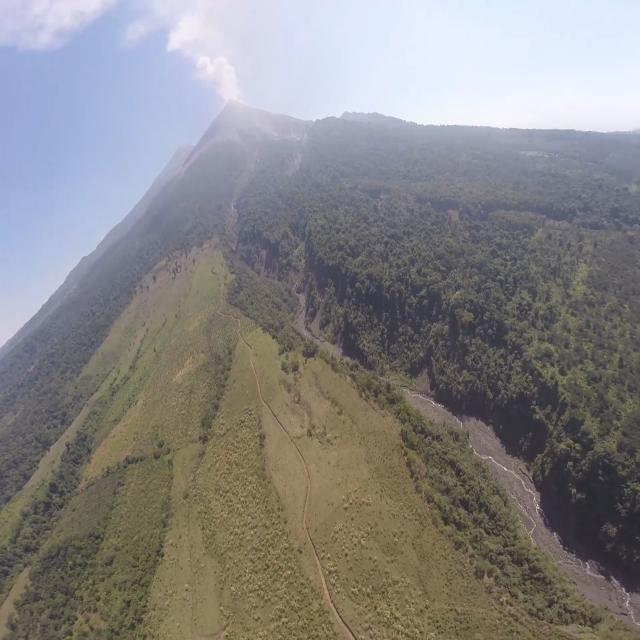Plume: (196, 49, 240, 104)
Summit: (214, 95, 253, 124)
